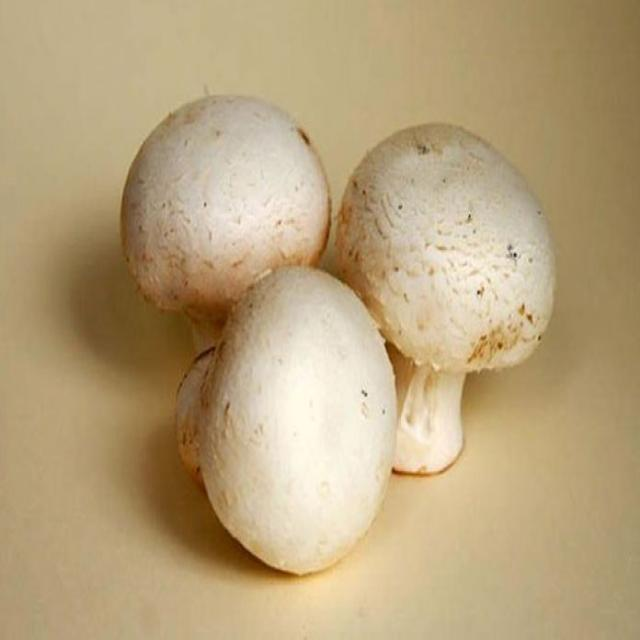Agaricus bisporus: (339, 118, 558, 488), (173, 264, 397, 587), (125, 95, 332, 346)
